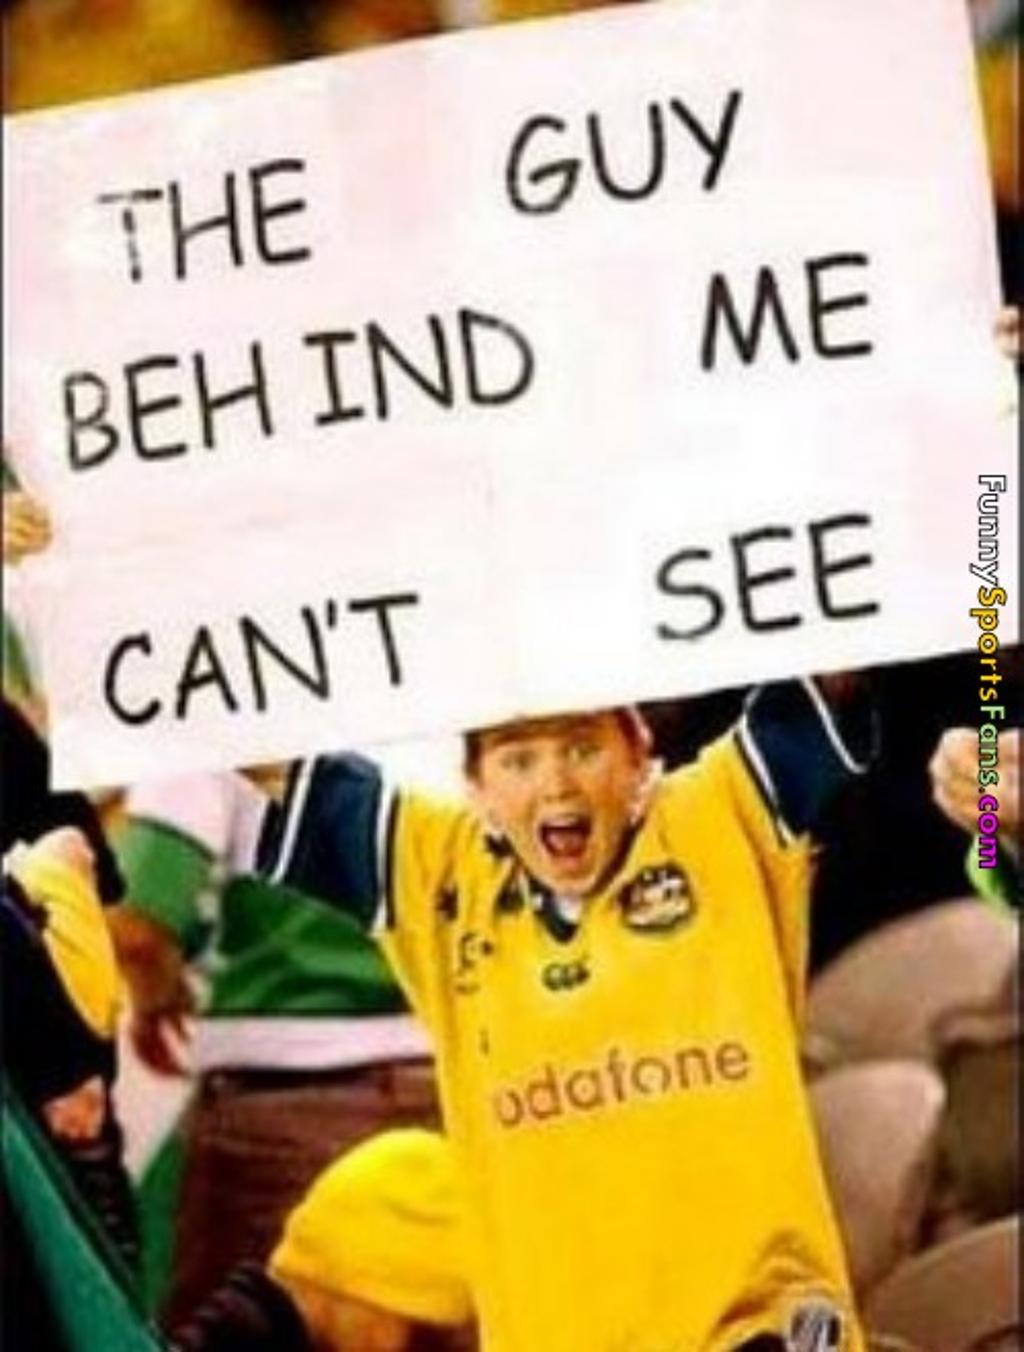face: (480, 731, 623, 897)
